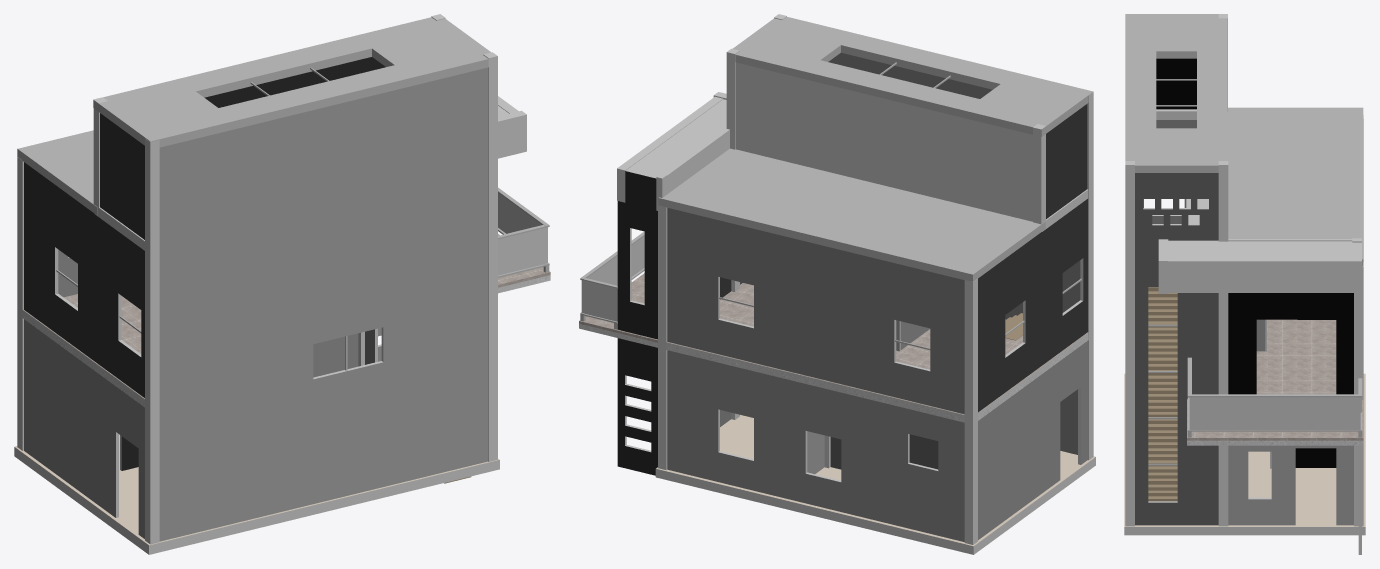
The model's file is Apocalipse Z - Casa C1 -  05 Cinza.fbx.
3 renders of one model, left to right at view 1: azimuth 30°, elevation 25°; view 2: azimuth 150°, elevation 25°; view 3: azimuth 270°, elevation 25°, orthographic. The views are drawn at different scales.
Parts seen in each view (by area): view 1: Cubo.002; view 2: Cubo.002; view 3: Cubo.002.
Part boxes in pixels (x1=…): Cubo.002: x1=14, y1=14, x2=550, y2=554; Cubo.002: x1=579, y1=14, x2=1095, y2=554; Cubo.002: x1=1124, y1=14, x2=1365, y2=554.
Bounding box in the file's own units: 2215 × 2018 × 1185.
Materials: 15 (5 with a texture image).
